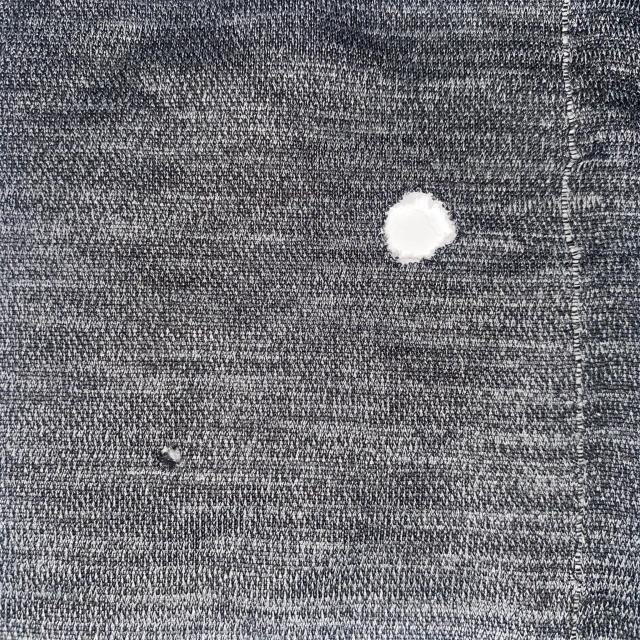Warp_Weft: (554, 0, 597, 640)
hole: (380, 181, 461, 268)
